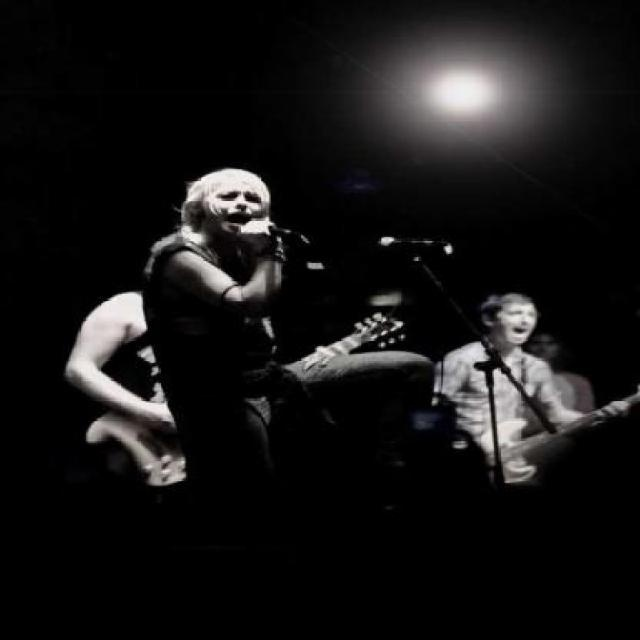obstacle: (138, 169, 430, 526), (430, 261, 601, 525), (58, 290, 175, 479)
